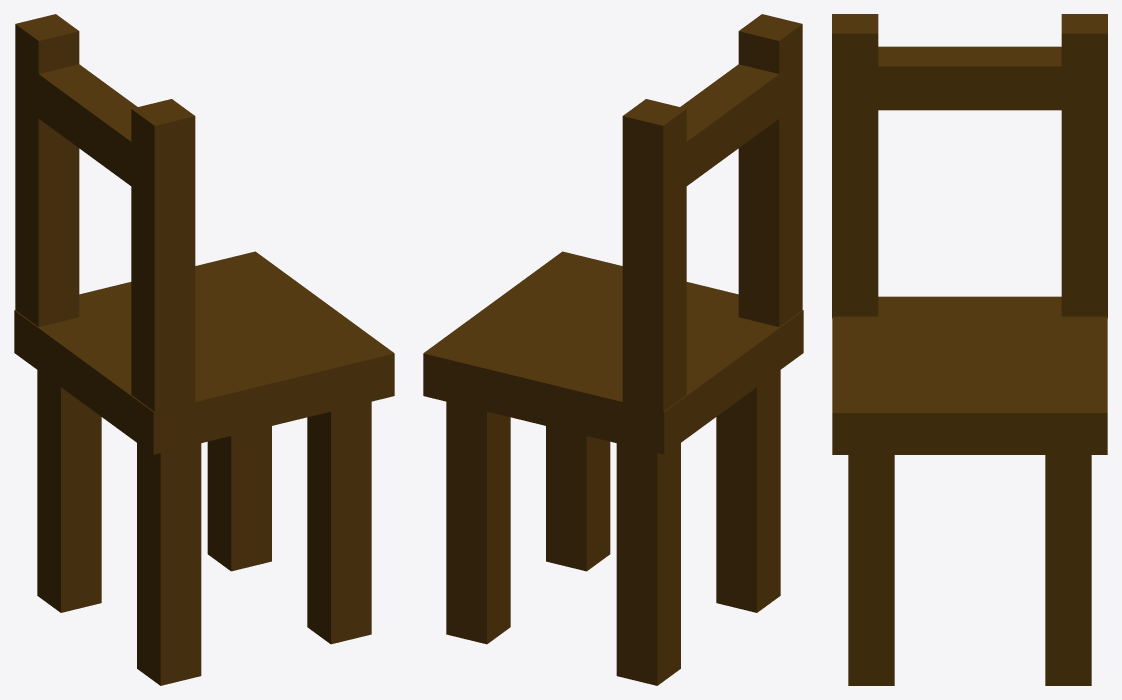
The model's file is sillajuego.fbx.
The picture shows the model from 3 angles, left to right: view 1: azimuth 30°, elevation 25°; view 2: azimuth 150°, elevation 25°; view 3: azimuth 270°, elevation 25°; orthographic projection.
Visible parts, largest first — view 1: Cube.001, Cube.002, Cube; view 2: Cube.001, Cube.002, Cube; view 3: Cube, Cube.002, Cube.001.
Part boxes in pixels (x1,y1,x2,y2): Cube.001: [37, 370, 371, 685]; Cube.002: [15, 14, 195, 413]; Cube: [14, 251, 394, 454]; Cube.001: [446, 370, 780, 685]; Cube.002: [622, 14, 802, 413]; Cube: [423, 251, 803, 454]; Cube: [832, 296, 1107, 454]; Cube.002: [832, 14, 1107, 318]; Cube.001: [848, 455, 1091, 685].
Bounding box in the file's own units: 209 × 471 × 209.
